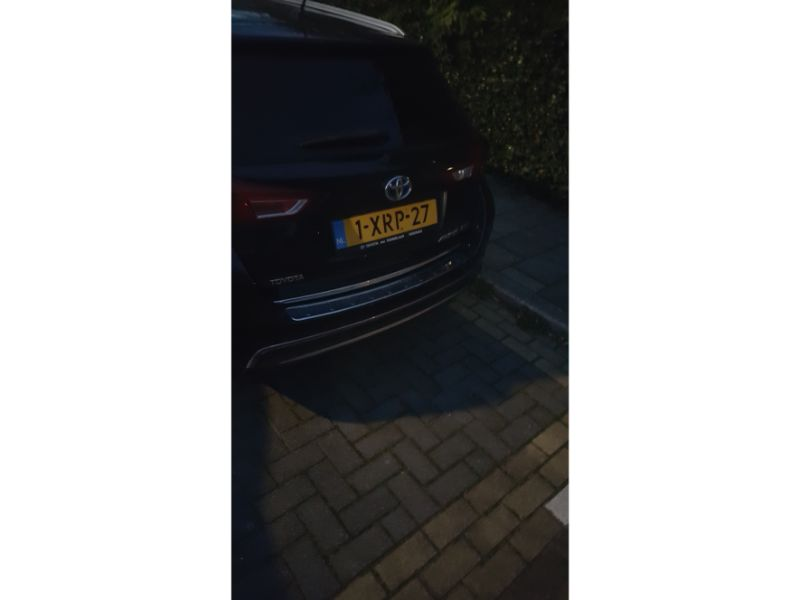kenteken: (335, 194, 442, 254)
